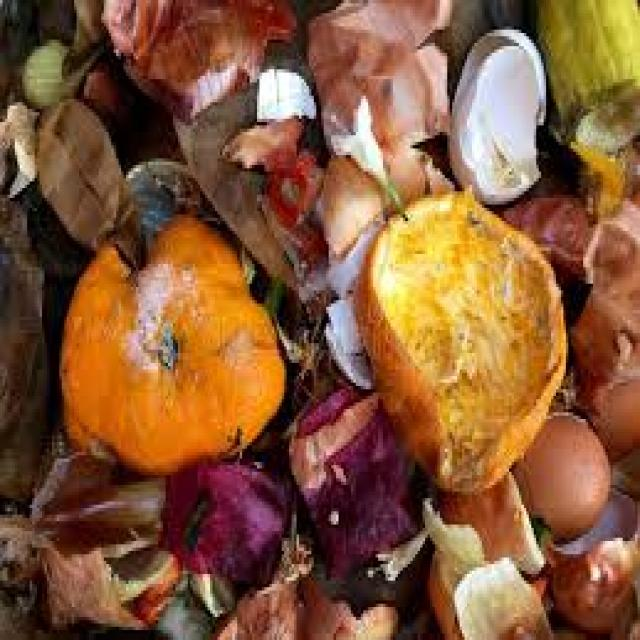organic waste: (0, 0, 638, 637), (358, 188, 561, 492), (54, 204, 282, 462), (170, 36, 324, 294), (296, 0, 449, 244), (284, 390, 428, 578), (99, 0, 294, 122), (0, 504, 173, 636), (412, 485, 548, 637), (156, 455, 292, 607), (447, 23, 544, 198), (528, 0, 637, 148), (0, 195, 52, 504), (35, 96, 136, 254), (564, 192, 638, 400), (29, 182, 92, 412), (538, 495, 638, 637), (420, 468, 544, 580), (202, 498, 296, 637), (514, 406, 608, 538), (287, 524, 393, 636), (321, 92, 408, 214), (37, 472, 161, 548), (119, 155, 220, 241), (494, 175, 588, 267), (141, 551, 232, 637), (314, 152, 383, 247), (22, 432, 116, 495), (318, 287, 376, 389), (564, 135, 638, 211), (15, 36, 86, 106), (586, 363, 638, 458), (368, 511, 435, 584), (217, 116, 299, 172), (245, 56, 316, 116), (257, 145, 314, 215), (272, 304, 316, 379), (2, 99, 34, 191), (82, 53, 126, 119), (67, 0, 116, 46), (32, 0, 89, 33), (608, 442, 637, 502), (260, 261, 294, 310), (0, 488, 32, 521)
